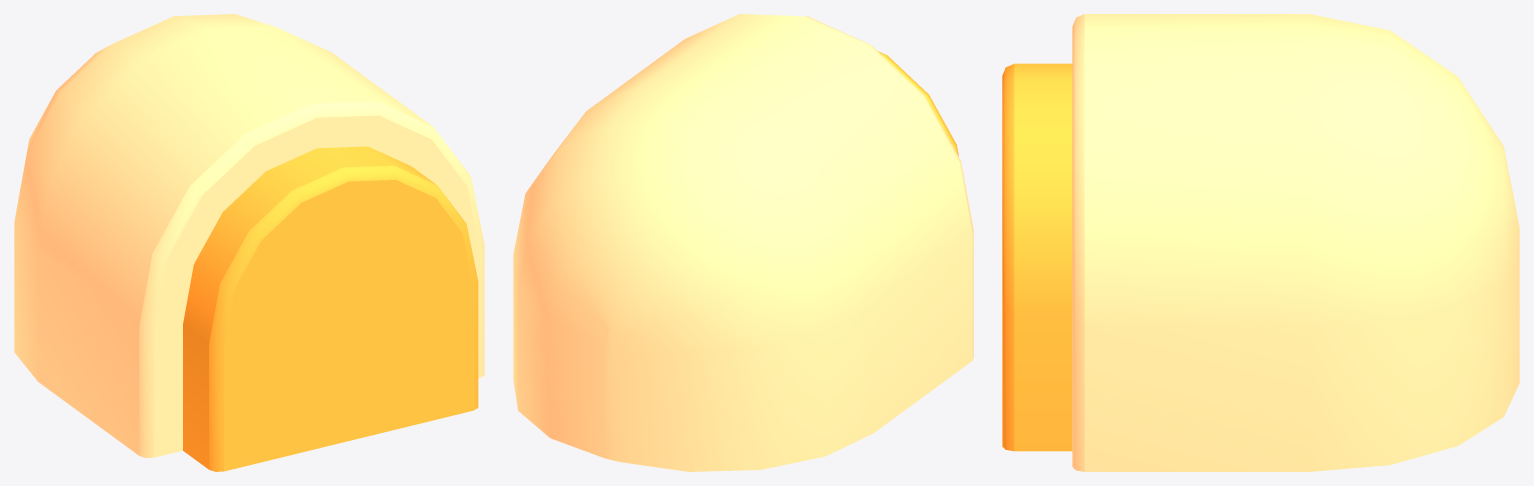
File: Tunnel.fbx
3 views of the same model, side by side, from view 1: azimuth 30°, elevation 25°; view 2: azimuth 150°, elevation 25°; view 3: azimuth 270°, elevation 25° (orthographic). The views are drawn at different scales.
Parts seen in each view (by area): view 1: Tunnel; view 2: Tunnel; view 3: Tunnel.
Boxes of the visible parts, bbox=[...] form: Tunnel: bbox=[14, 14, 484, 471]; Tunnel: bbox=[513, 14, 973, 471]; Tunnel: bbox=[1002, 14, 1519, 471].
Size of the model in its own units: 2.54 by 2.18 by 2.98.
